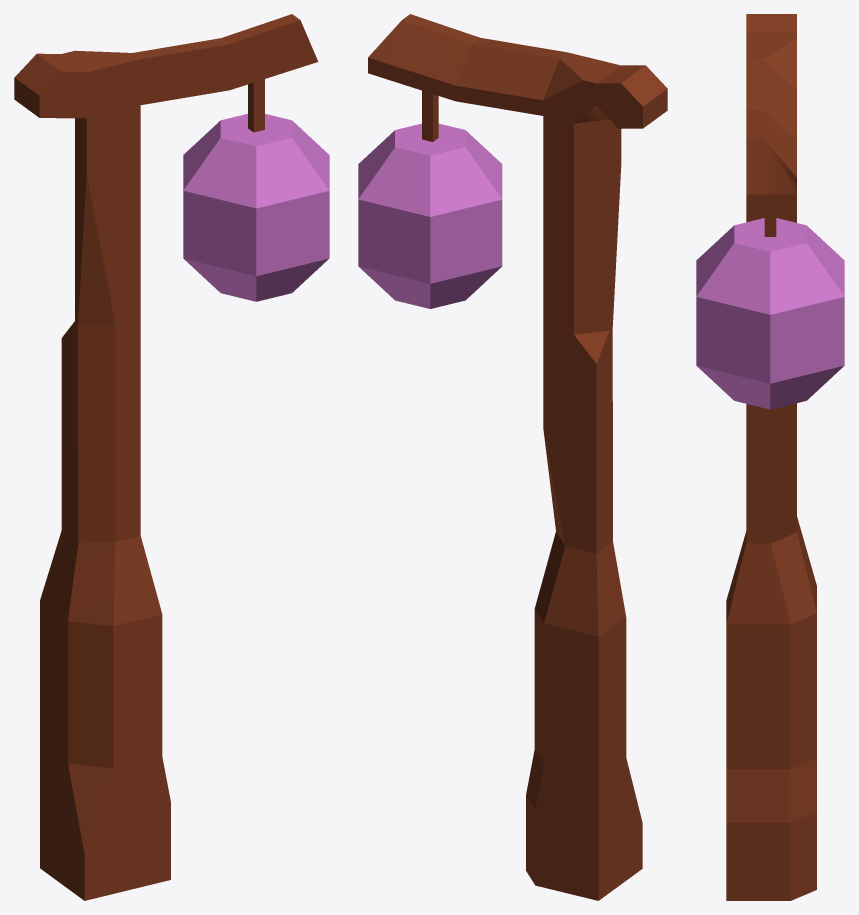
Rendered from Lamp_01.FBX.
3 views of the same model, side by side, from view 1: azimuth 30°, elevation 25°; view 2: azimuth 150°, elevation 25°; view 3: azimuth 270°, elevation 25° (orthographic). The views are drawn at different scales.
Visible parts, largest first — view 1: Lamp_01; view 2: Lamp_01; view 3: Lamp_01.
Boxes of the visible parts, bbox=[...] form: Lamp_01: bbox=[14, 14, 329, 900]; Lamp_01: bbox=[358, 14, 667, 900]; Lamp_01: bbox=[696, 14, 844, 900].
Bounding box in the file's own units: 25.43 × 66.4 × 10.67.
